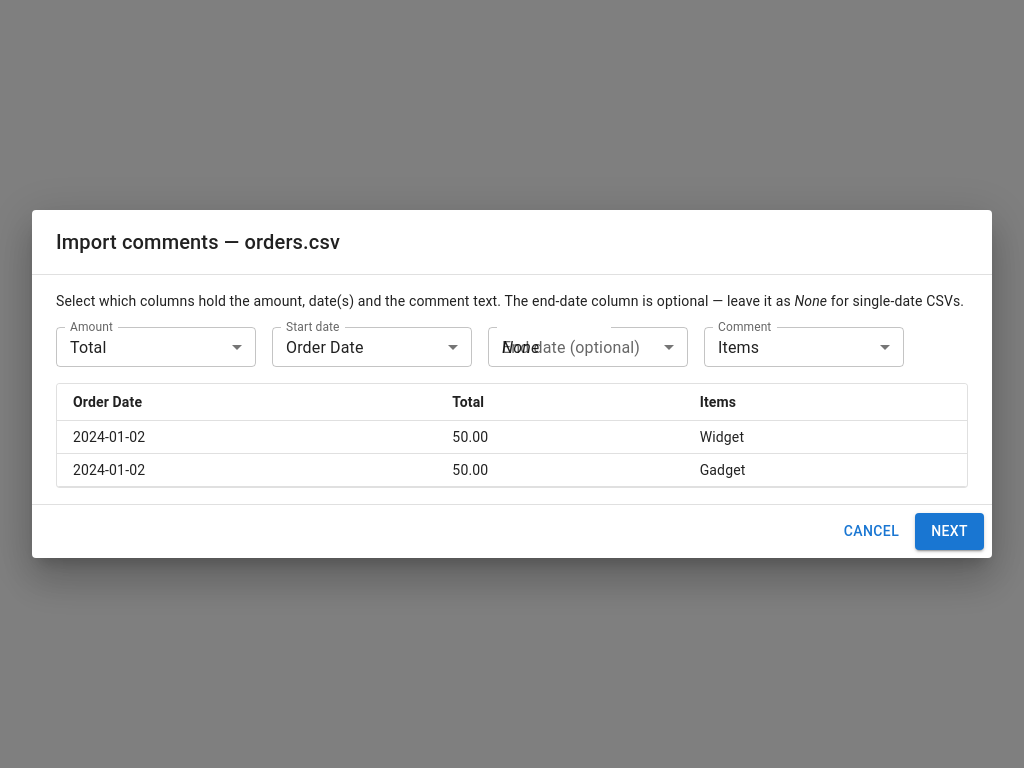
Test: CommentImportWizard › reports a conflict when two CSV rows match one transaction and disables apply
Expected: the text "Widget" is shown, [684, 421, 967, 454]
Click the button "Next". click: {"x": 950, "y": 532}
box: [915, 513, 984, 550]
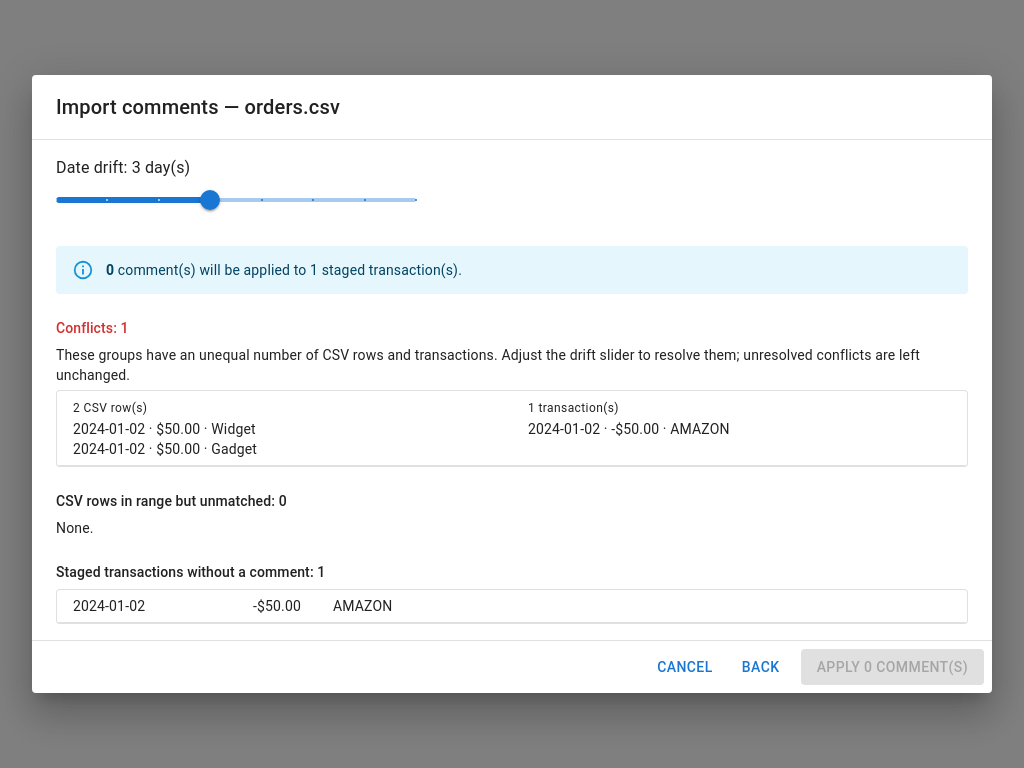
Result: the heading "Conflicts: 1" is shown at [56, 320, 129, 336]
Result: the button "Apply 0 comment(s)" is disabled at [801, 649, 984, 685]
